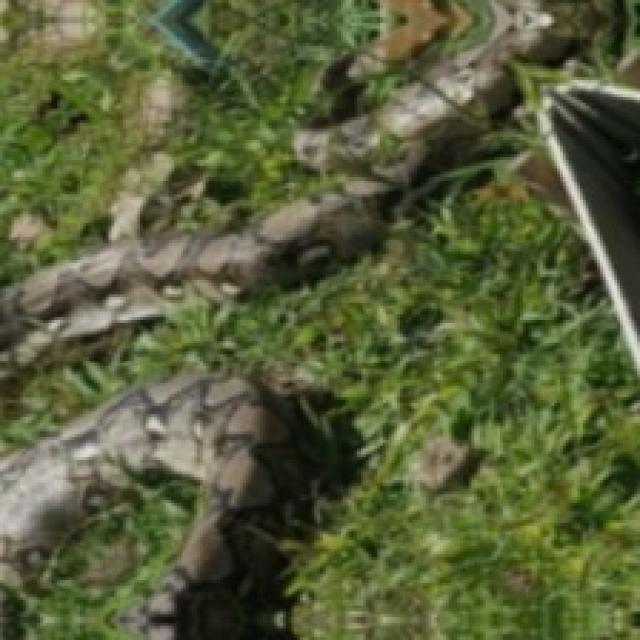reticulated python: (0, 0, 595, 381), (0, 374, 334, 637)
